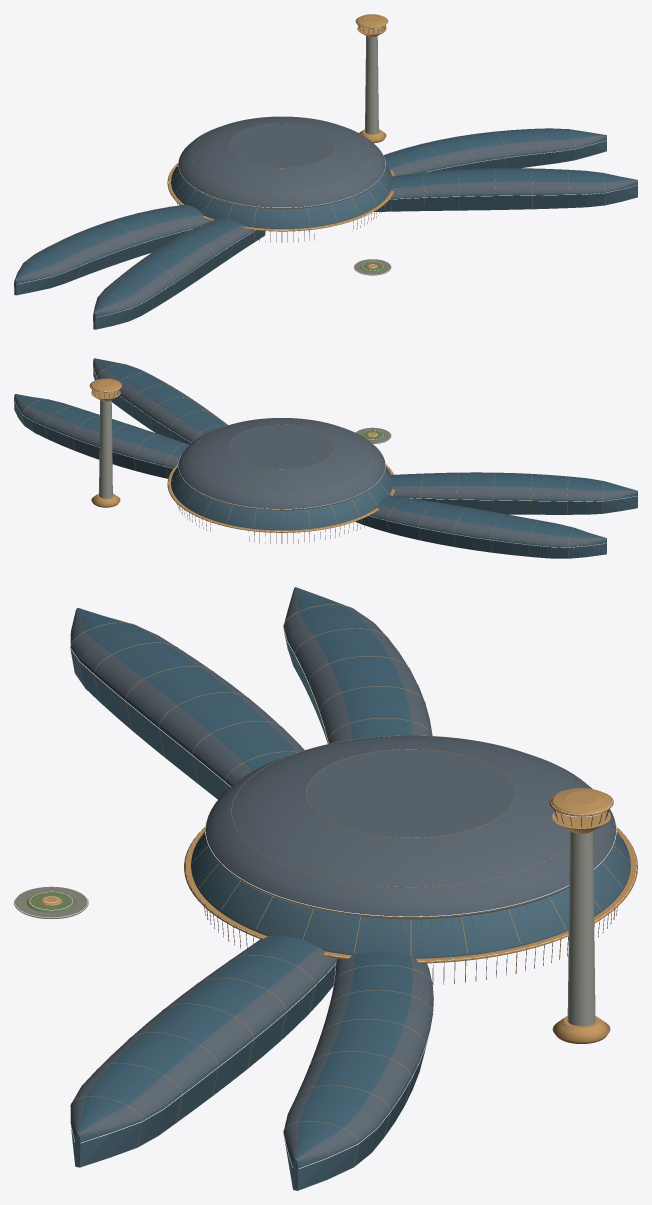
File: meridian-open-terminal.glb
The picture shows the model from 3 angles, top to bottom: view 1: azimuth 30°, elevation 25°; view 2: azimuth 150°, elevation 25°; view 3: azimuth 270°, elevation 25°; orthographic projection. The views are drawn at different scales.
Visible parts, largest first — view 1: airport-rotunda-crown, airport-rotunda-drum, signal-tower, terminal-wing-1-1-7, terminal-wing-1-1-8, terminal-wing-1-1-9, terminal-wing-1-1-6, terminal-wing-1-1-10, rotunda-low-eave, terminal-wing-1-1-5, terminal-wing-1-1-11, terminal-wing-1-0-10 (+40 smaller); view 2: airport-rotunda-crown, airport-rotunda-drum, signal-tower, rotunda-low-eave, terminal-wing--1-1-9, terminal-wing--1-0-9, terminal-wing--1-0-10, terminal-wing--1-1-8, terminal-wing--1-0-8, terminal-wing--1-1-10, terminal-wing--1-0-11, terminal-wing--1-0-7 (+41 smaller); view 3: airport-rotunda-crown, airport-rotunda-drum, signal-tower, rotunda-low-eave, terminal-wing-1-1-10, terminal-wing-1-1-9, terminal-wing-1-1-11, Bronze detailing, terminal-wing-1-1-8, terminal-wing-1-1-13, terminal-wing--1-1-5, terminal-wing--1-1-7 (+46 smaller).
Part boxes in pixels (x1,y1,x2,y2): airport-rotunda-crown: (178, 116, 385, 209); airport-rotunda-drum: (171, 165, 391, 228); signal-tower: (365, 36, 378, 134); terminal-wing-1-1-7: (475, 168, 495, 210); terminal-wing-1-1-8: (494, 168, 513, 209); terminal-wing-1-1-9: (512, 168, 532, 209); terminal-wing-1-1-6: (457, 169, 477, 210); terminal-wing-1-1-10: (531, 168, 550, 209); rotunda-low-eave: (167, 163, 394, 231); terminal-wing-1-1-5: (439, 169, 459, 210); terminal-wing-1-1-11: (549, 169, 568, 208); terminal-wing-1-0-10: (494, 130, 524, 168); airport-rotunda-crown: (178, 418, 385, 510); airport-rotunda-drum: (171, 467, 392, 530); signal-tower: (99, 400, 112, 498); rotunda-low-eave: (167, 464, 395, 532); terminal-wing--1-1-9: (512, 473, 531, 514); terminal-wing--1-0-9: (472, 511, 503, 552); terminal-wing--1-0-10: (490, 514, 521, 554); terminal-wing--1-1-8: (493, 472, 513, 514); terminal-wing--1-0-8: (453, 508, 486, 549); terminal-wing--1-1-10: (530, 474, 550, 514); terminal-wing--1-0-11: (509, 517, 538, 556); terminal-wing--1-0-7: (436, 505, 469, 546); airport-rotunda-crown: (205, 735, 616, 919); airport-rotunda-drum: (191, 832, 630, 958); signal-tower: (567, 831, 595, 1026); rotunda-low-eave: (184, 827, 637, 963); terminal-wing-1-1-10: (115, 1032, 218, 1109); terminal-wing-1-1-9: (132, 1018, 235, 1095); terminal-wing-1-1-11: (100, 1047, 200, 1122); Bronze detailing: (70, 604, 433, 1143); terminal-wing-1-1-8: (148, 1004, 253, 1082); terminal-wing-1-1-13: (73, 1079, 163, 1147); terminal-wing--1-1-5: (193, 721, 296, 796); terminal-wing--1-1-7: (159, 692, 263, 770).
Bounding box in the file's own units: 517 × 98.8 × 238.
